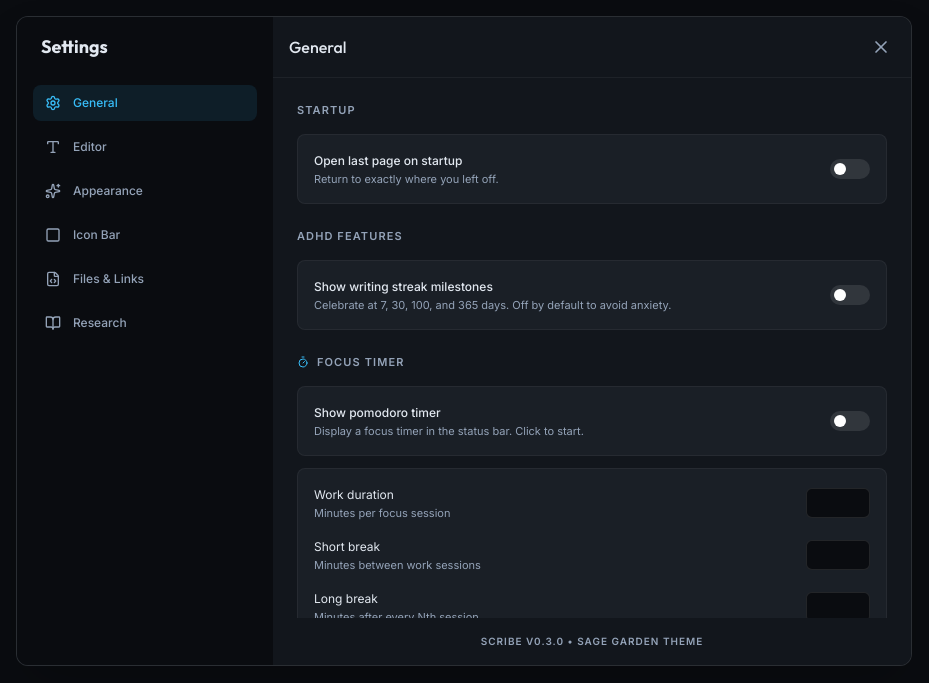
Test case: SettingsModal › General Tab › should show identity section
Click the button "General" at (145, 103), box [33, 85, 257, 121]
(page scrolled)
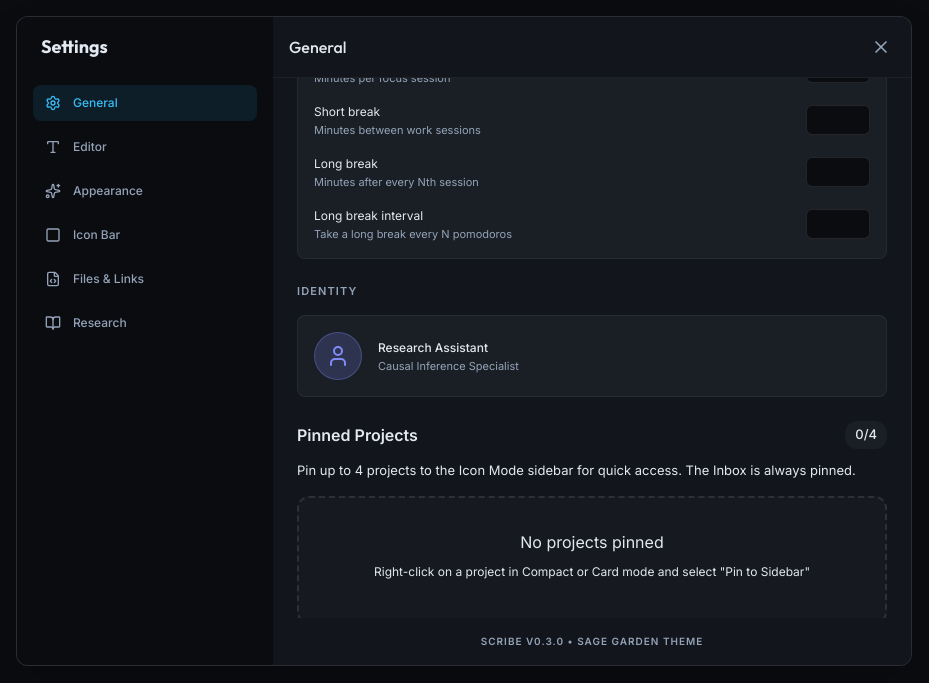
Expected: the text "Research Assistant" is shown, [378, 340, 488, 355]
